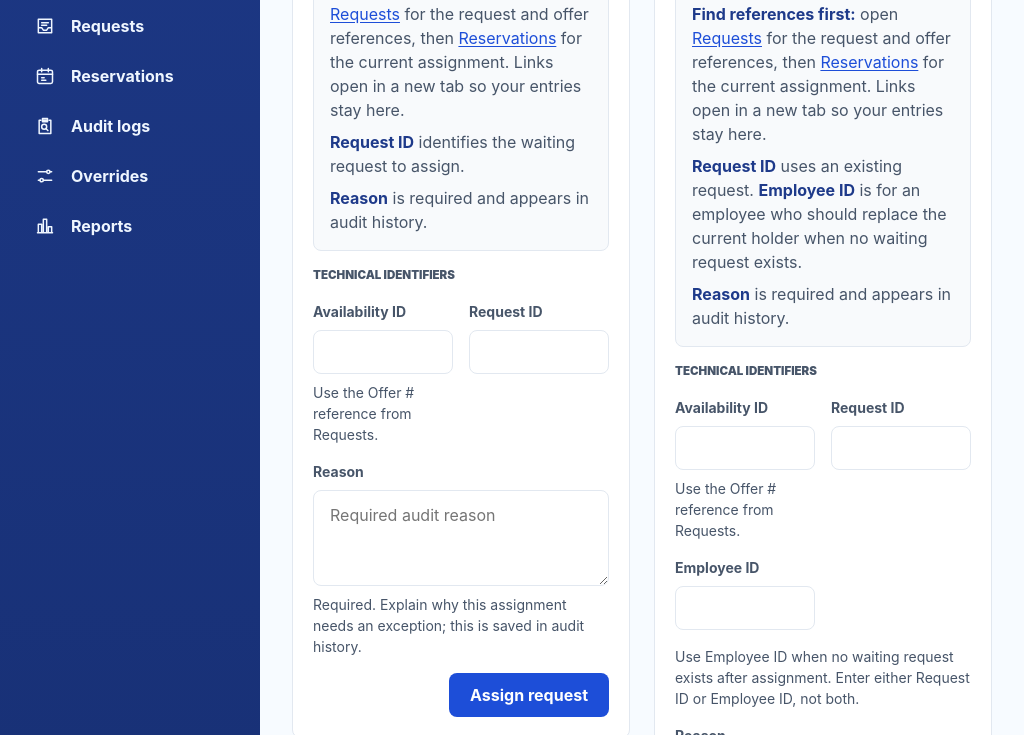
Scenario: AdminOverridesView › shows the returned reservation after a successful manual override
(page scrolled)
In the number field named "manual-availability-id": (383, 352) left=313, top=330, right=453, bottom=374, type "22"
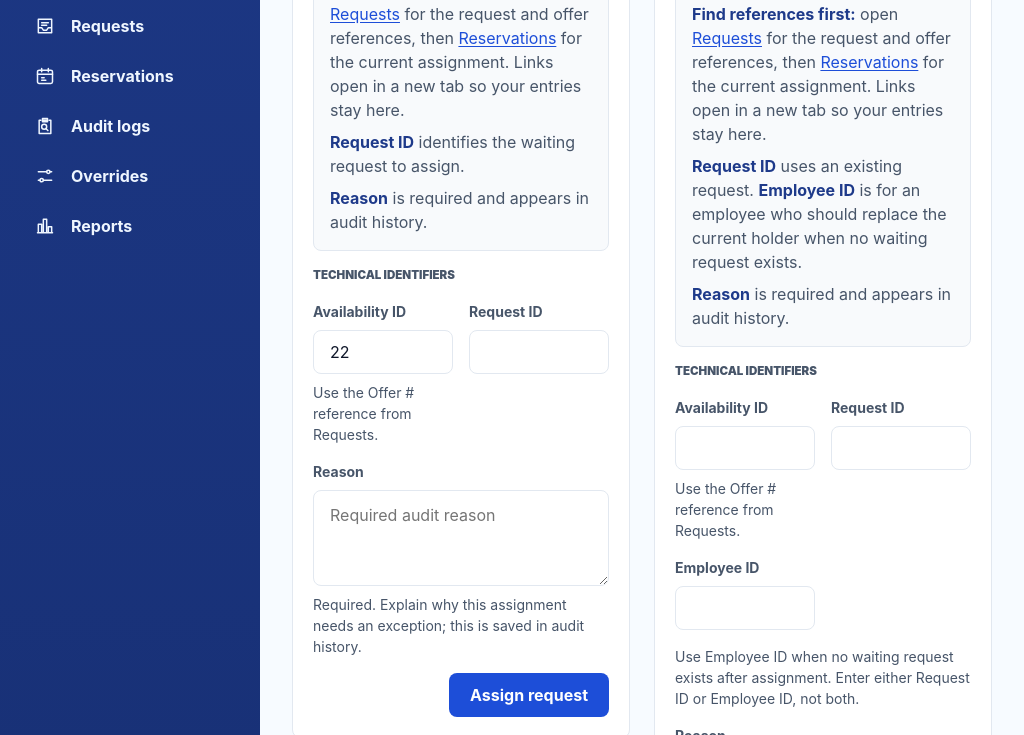
In the number field named "manual-application-id": (539, 352) left=469, top=330, right=609, bottom=374, type "23"
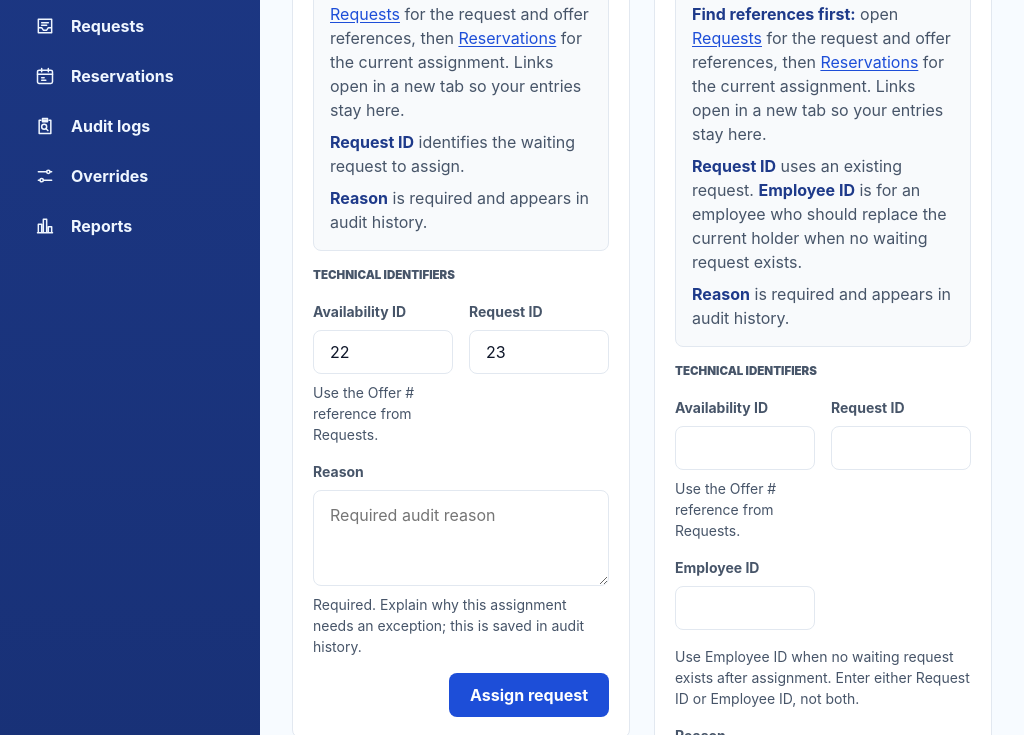
In the text box named "manual-reason": (461, 538) left=313, top=490, right=609, bottom=586, type "Approved exception"
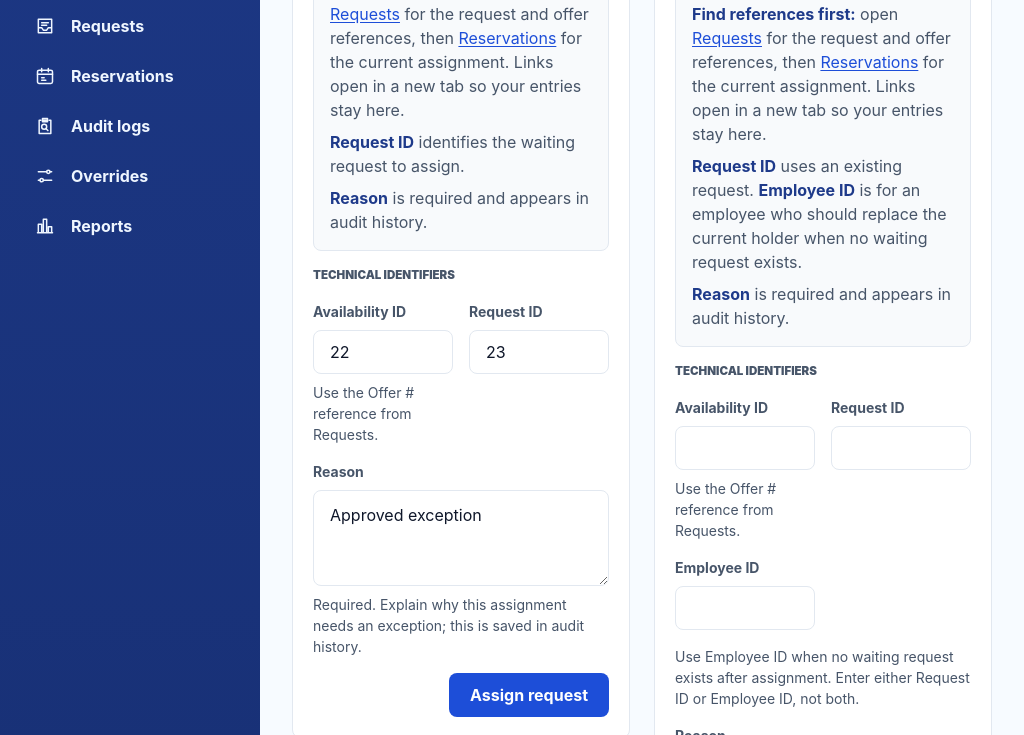
Submit the 1st form, box left=313, top=267, right=609, bottom=717
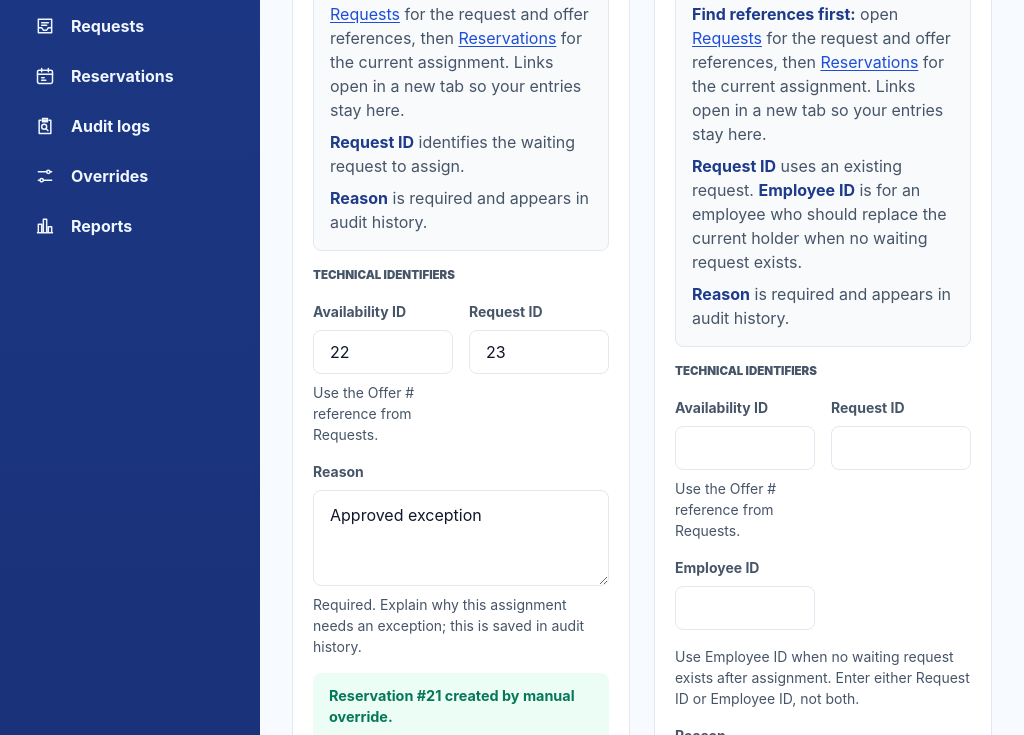
Now the text "Reservation #21" is shown, box left=329, top=687, right=575, bottom=725
